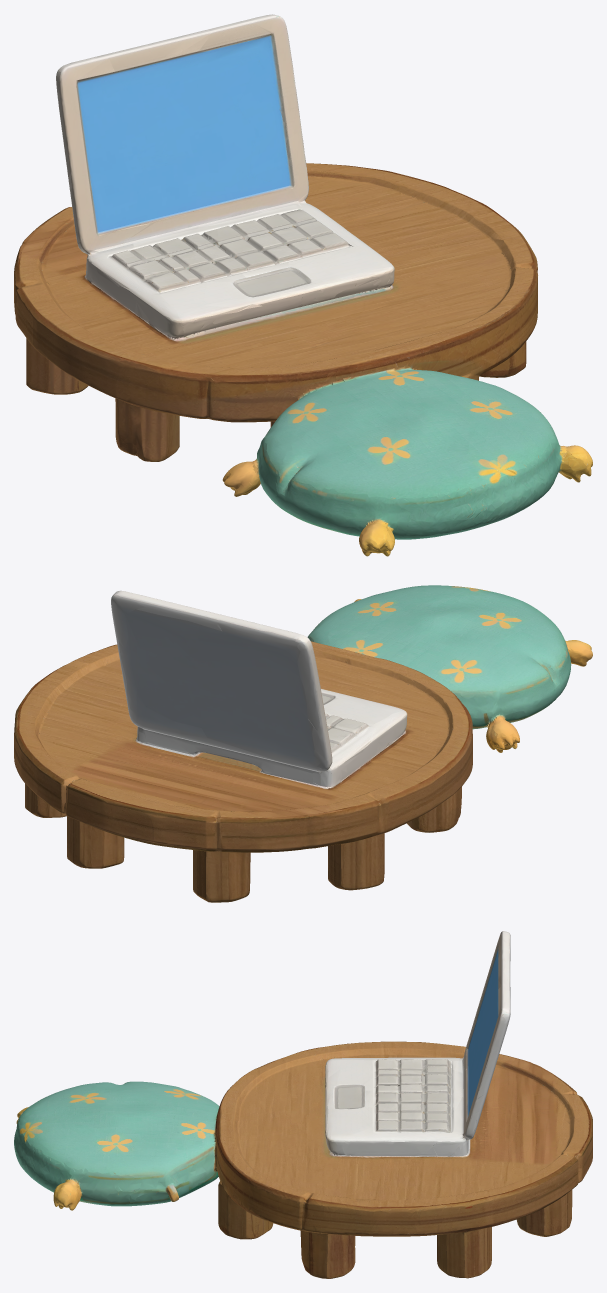
File: round-laptop-no-decor-meshy6-web-v1.glb
The picture shows the model from 3 angles, top to bottom: view 1: azimuth 30°, elevation 25°; view 2: azimuth 150°, elevation 25°; view 3: azimuth 270°, elevation 25°; orthographic projection. The views are drawn at different scales.
Size of the model in its own units: 1.31 by 0.8043 by 1.9.
1 material, 1 textured.
